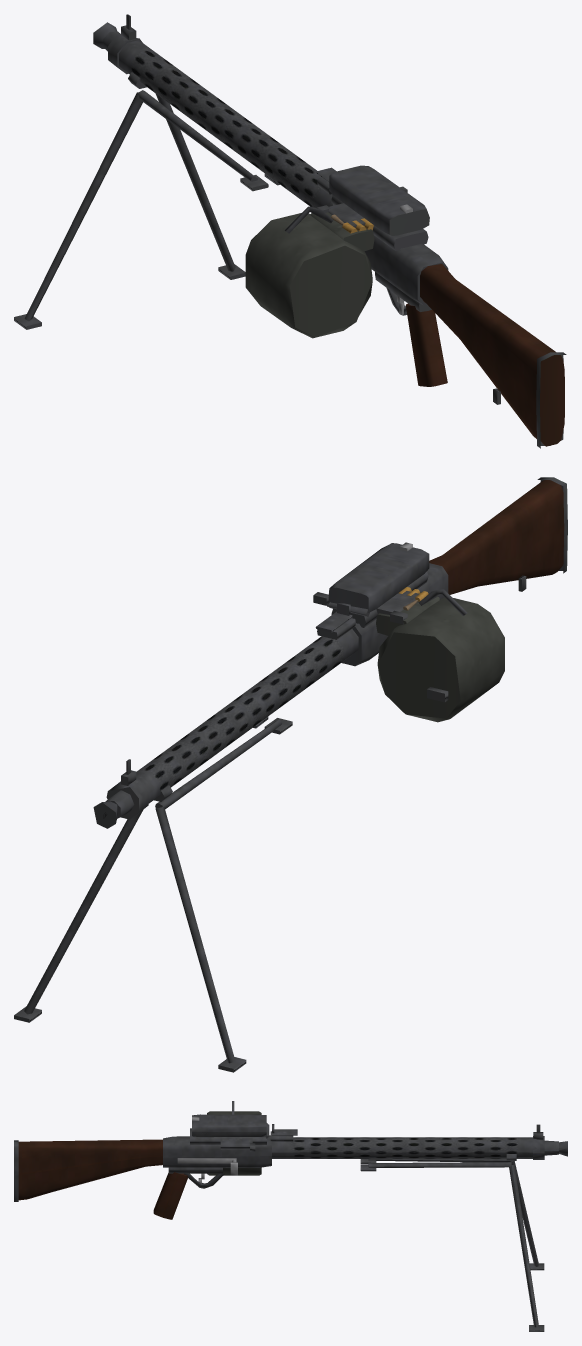
3 renders of one model, top to bottom at view 1: azimuth 30°, elevation 25°; view 2: azimuth 150°, elevation 25°; view 3: azimuth 270°, elevation 25°, orthographic. The views are drawn at different scales.
Parts seen in each view (by area): view 1: mg34_body, mg34_drum, mg34_bipod_open, mg34_feed_cover, mg34_bipod_folded; view 2: mg34_body, mg34_drum, mg34_bipod_open, mg34_feed_cover, mg34_bipod_folded; view 3: mg34_body, mg34_feed_cover, mg34_bipod_open, mg34_bipod_folded, mg34_drum.
Part boxes in pixels (left/top/right/bottom): mg34_body: left=93, top=14, right=566, bottom=448; mg34_drum: left=245, top=206, right=374, bottom=338; mg34_bipod_open: left=14, top=92, right=245, bottom=329; mg34_feed_cover: left=327, top=165, right=429, bottom=235; mg34_bipod_folded: left=138, top=90, right=279, bottom=191; mg34_body: left=93, top=477, right=567, bottom=828; mg34_drum: left=376, top=589, right=504, bottom=722; mg34_bipod_open: left=14, top=807, right=246, bottom=1072; mg34_feed_cover: left=328, top=542, right=429, bottom=616; mg34_bipod_folded: left=155, top=716, right=292, bottom=809; mg34_body: left=14, top=1124, right=567, bottom=1219; mg34_feed_cover: left=192, top=1114, right=269, bottom=1138; mg34_bipod_open: left=509, top=1161, right=544, bottom=1331; mg34_bipod_folded: left=360, top=1159, right=511, bottom=1171; mg34_drum: left=207, top=1101, right=261, bottom=1175.
Bounding box in the file's own units: 0.3443 × 0.4394 × 1.22.
Materials: 1 (1 with a texture image).
